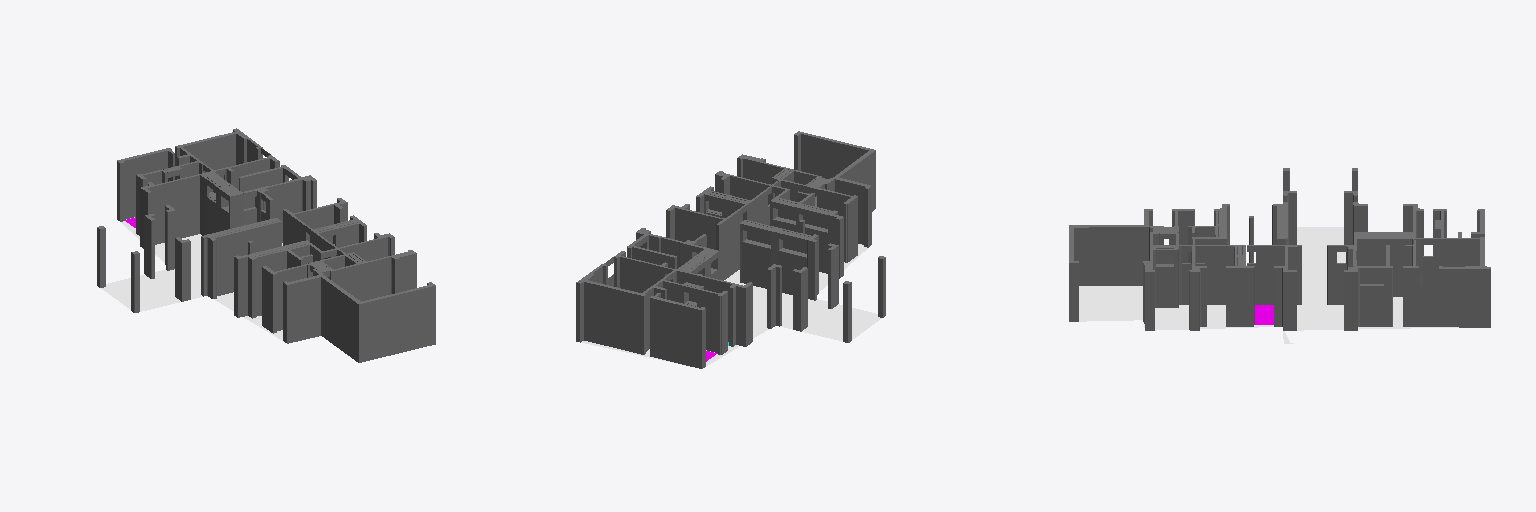
3 views of the same model, side by side, from view 1: azimuth 30°, elevation 25°; view 2: azimuth 150°, elevation 25°; view 3: azimuth 270°, elevation 25° (orthographic).
Parts seen in each view (by area): view 1: Box13Wall242, Floor, Box14Wall260, Box13Wall241, Box17Wall337, Box13Wall240, Box7Wall130, Box10Wall197, Box8Wall160, Box1Wall16, Box15Wall292, Box0Wall0 (+8 smaller); view 2: Box8Wall170, Floor, Box10Wall204, Box13Wall246, Box3Wall58, Box3Wall55, Box6Wall118, Box57Wall229, Box11Wall216, Box13Wall241, Box61Wall245, Box14Wall281 (+6 smaller); view 3: Floor, Box13Wall247, Box8Wall167, Box14Wall275, Box4Wall72, Box4Wall60, Box8Wall159, Box3Wall45, Box32Wall130, Box6Wall114, Box1Wall22, Box3Wall52 (+6 smaller).
Part boxes in pixels (left/top/right/bottom): Box13Wall242: left=359, top=286, right=435, bottom=362; Floor: left=101, top=217, right=283, bottom=341; Box14Wall260: left=147, top=175, right=199, bottom=244; Box13Wall241: left=321, top=277, right=358, bottom=362; Box17Wall337: left=215, top=222, right=281, bottom=295; Box13Wall240: left=287, top=277, right=320, bottom=343; Box7Wall130: left=331, top=257, right=390, bottom=301; Box10Wall197: left=124, top=151, right=167, bottom=219; Box8Wall160: left=183, top=134, right=235, bottom=178; Box1Wall16: left=266, top=180, right=301, bottom=242; Box15Wall292: left=256, top=251, right=286, bottom=316; Box0Wall0: left=240, top=168, right=282, bottom=208; Box8Wall170: left=584, top=282, right=643, bottom=354; Floor: left=581, top=244, right=881, bottom=367; Box10Wall204: left=650, top=298, right=701, bottom=368; Box13Wall246: left=801, top=134, right=868, bottom=178; Box3Wall58: left=719, top=209, right=742, bottom=280; Box3Wall55: left=675, top=208, right=722, bottom=253; Box6Wall118: left=620, top=257, right=664, bottom=292; Box57Wall229: left=742, top=242, right=770, bottom=288; Box11Wall216: left=697, top=289, right=717, bottom=352; Box13Wall241: left=839, top=151, right=875, bottom=211; Box61Wall245: left=778, top=251, right=806, bottom=294; Box14Wall281: left=677, top=271, right=731, bottom=341; Floor: left=1079, top=227, right=1458, bottom=343; Box13Wall247: left=1074, top=227, right=1148, bottom=285; Box8Wall167: left=1439, top=269, right=1490, bottom=327; Box14Wall275: left=1357, top=239, right=1411, bottom=296; Box4Wall72: left=1226, top=268, right=1253, bottom=326; Box4Wall60: left=1205, top=246, right=1233, bottom=304; Box8Wall159: left=1434, top=239, right=1479, bottom=285; Box3Wall45: left=1256, top=246, right=1284, bottom=304; Box32Wall130: left=1360, top=286, right=1383, bottom=326; Box6Wall114: left=1403, top=268, right=1418, bottom=326; Box1Wall22: left=1344, top=272, right=1357, bottom=330; Box3Wall52: left=1283, top=272, right=1296, bottom=330.
Size of the model in its own units: 10.66 by 2.5 by 16.24.